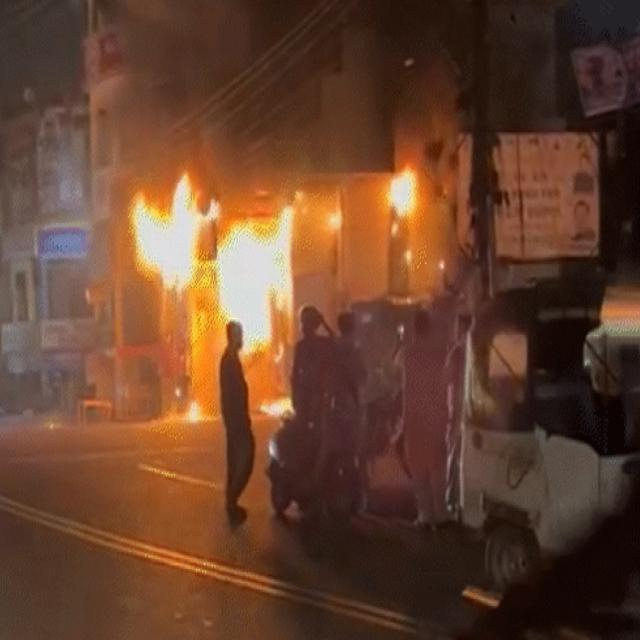fire: (128, 170, 220, 303), (217, 204, 297, 344), (386, 163, 416, 217)
